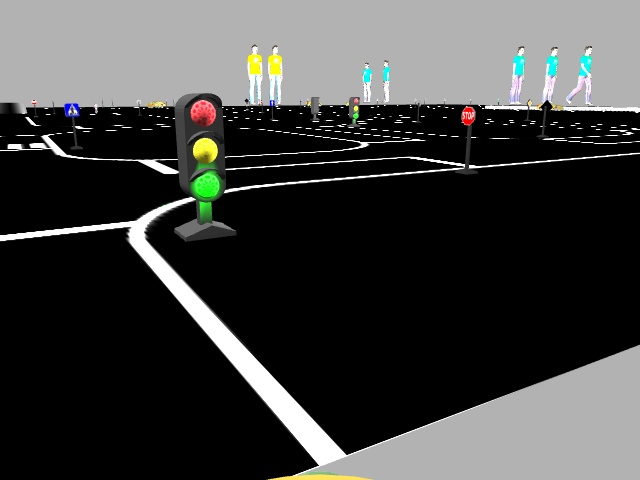Crosswalk: (65, 102, 77, 116)
Stop: (460, 107, 475, 125)
TrafficLight: (177, 89, 223, 202)
